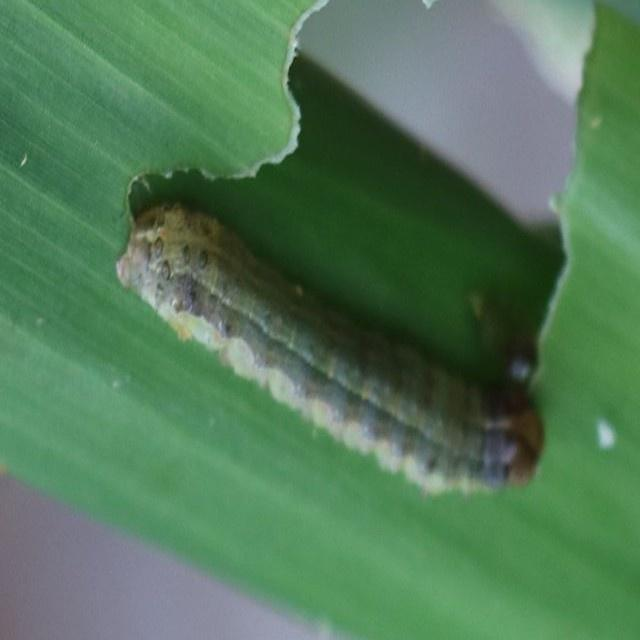Plaga: (115, 200, 544, 489)
